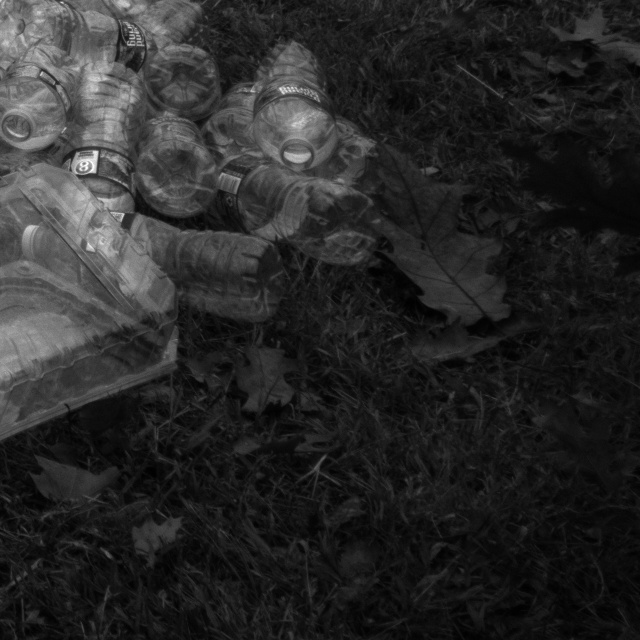bottle: (187, 134, 376, 255), (216, 12, 352, 172), (0, 284, 100, 448), (56, 39, 148, 215), (0, 20, 96, 155)
container: (0, 171, 209, 498)
